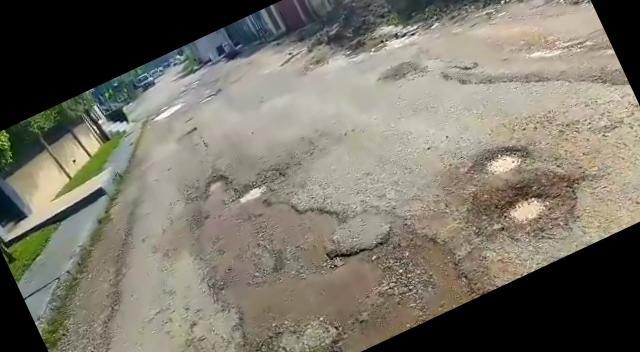pothole: (462, 154, 586, 258), (470, 136, 533, 186), (238, 180, 270, 204), (200, 173, 230, 194)
